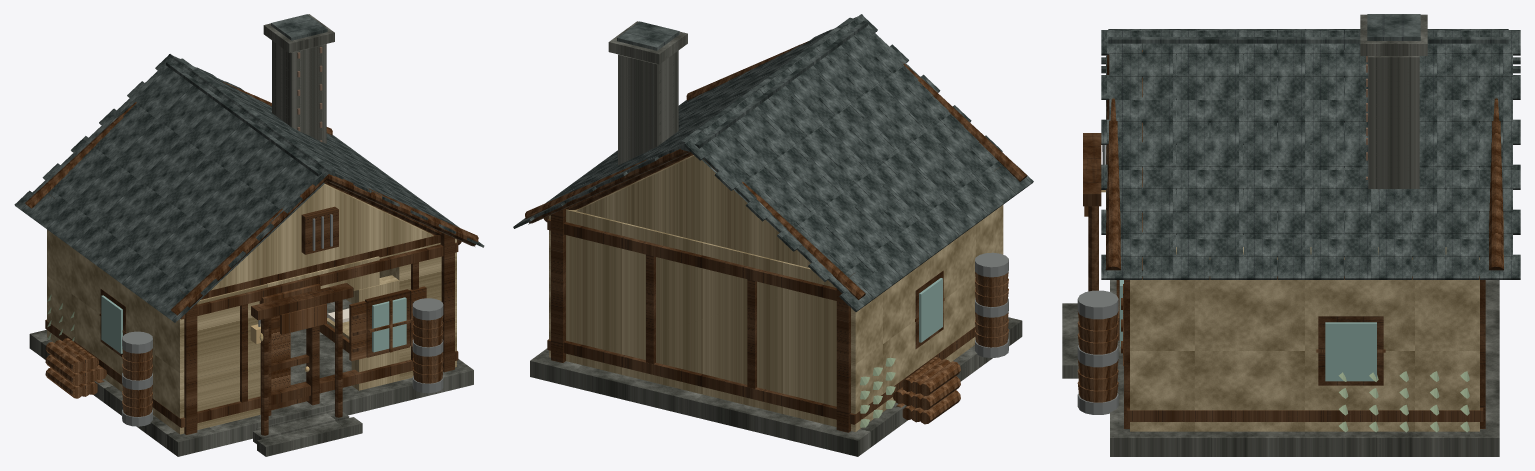
Rendered from Cottage_The_Hermit.glb.
3 views of the same model, side by side, from view 1: azimuth 30°, elevation 25°; view 2: azimuth 150°, elevation 25°; view 3: azimuth 270°, elevation 25° (orthographic). The views are drawn at different scales.
Visible parts, largest first — view 1: Baked_Cold slate, Baked_Lime plaster, Baked_Charred oak beams, Baked_Fieldstone, Baked_Oil-darkened oak, Baked_Forged iron, Baked_Green bottle glass; view 2: Baked_Cold slate, Baked_Lime plaster, Baked_Charred oak beams, Baked_Fieldstone, Baked_Oil-darkened oak, Baked_Forged iron, Baked_Green bottle glass, Baked_Moss; view 3: Baked_Cold slate, Baked_Lime plaster, Baked_Fieldstone, Baked_Charred oak beams, Baked_Oil-darkened oak, Baked_Green bottle glass, Baked_Forged iron, Baked_Moss.
Boxes of the visible parts, left/top/right/bottom form: Baked_Cold slate: left=14, top=14, right=484, bottom=322; Baked_Lime plaster: left=47, top=184, right=456, bottom=434; Baked_Charred oak beams: left=25, top=81, right=478, bottom=435; Baked_Fieldstone: left=29, top=14, right=473, bottom=456; Baked_Oil-darkened oak: left=45, top=283, right=443, bottom=416; Baked_Forged iron: left=122, top=214, right=443, bottom=426; Baked_Green bottle glass: left=101, top=295, right=406, bottom=353; Baked_Cold slate: left=513, top=14, right=1033, bottom=311; Baked_Lime plaster: left=549, top=155, right=1003, bottom=431; Baked_Charred oak beams: left=525, top=41, right=1027, bottom=432; Baked_Fieldstone: left=530, top=21, right=1022, bottom=456; Baked_Oil-darkened oak: left=893, top=270, right=1008, bottom=424; Baked_Forged iron: left=975, top=252, right=1008, bottom=357; Baked_Green bottle glass: left=919, top=278, right=942, bottom=342; Baked_Moss: left=860, top=357, right=895, bottom=427; Baked_Cold slate: left=1101, top=14, right=1520, bottom=279; Baked_Lime plaster: left=1130, top=247, right=1479, bottom=431; Baked_Fieldstone: left=1062, top=14, right=1499, bottom=456; Baked_Charred oak beams: left=1083, top=50, right=1503, bottom=428; Baked_Oil-darkened oak: left=1077, top=206, right=1385, bottom=402; Baked_Green bottle glass: left=1120, top=280, right=1376, bottom=381; Baked_Forged iron: left=1077, top=145, right=1118, bottom=414; Baked_Moss: left=1338, top=371, right=1469, bottom=432.
Size of the model in its own units: 7.55 by 6.57 by 6.94.
Materials: 13 (7 with a texture image).
